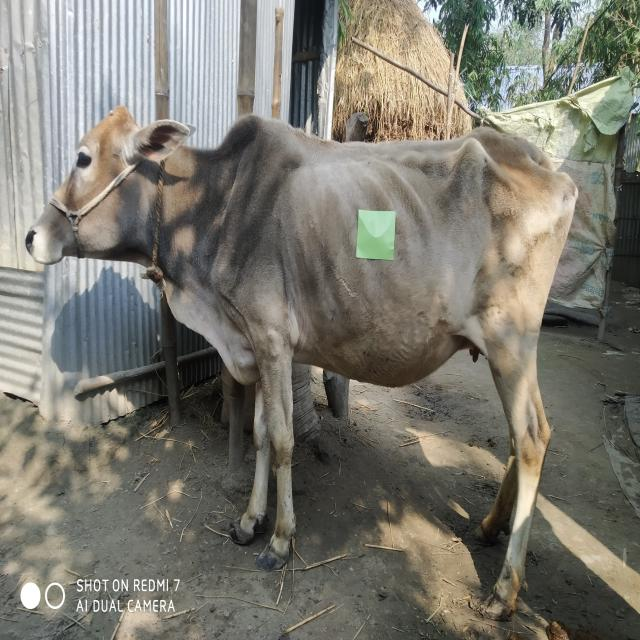badan_sapi: (245, 141, 552, 369)
sapi: (27, 104, 577, 626)
